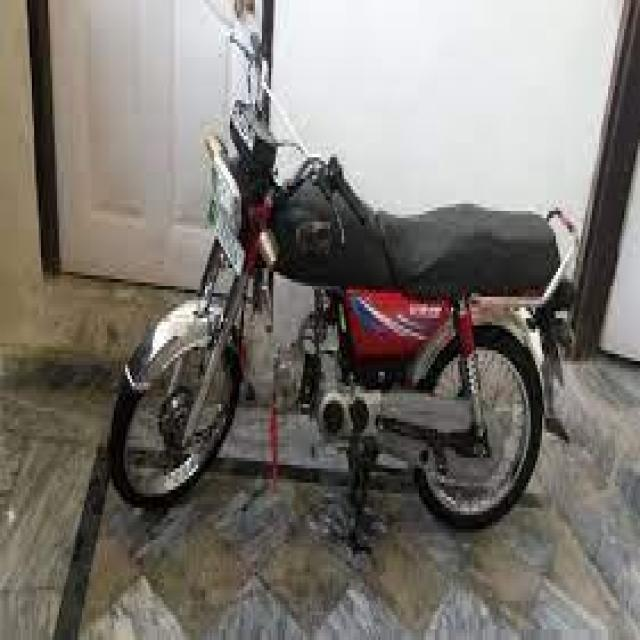motorcycle: (63, 20, 607, 556)
